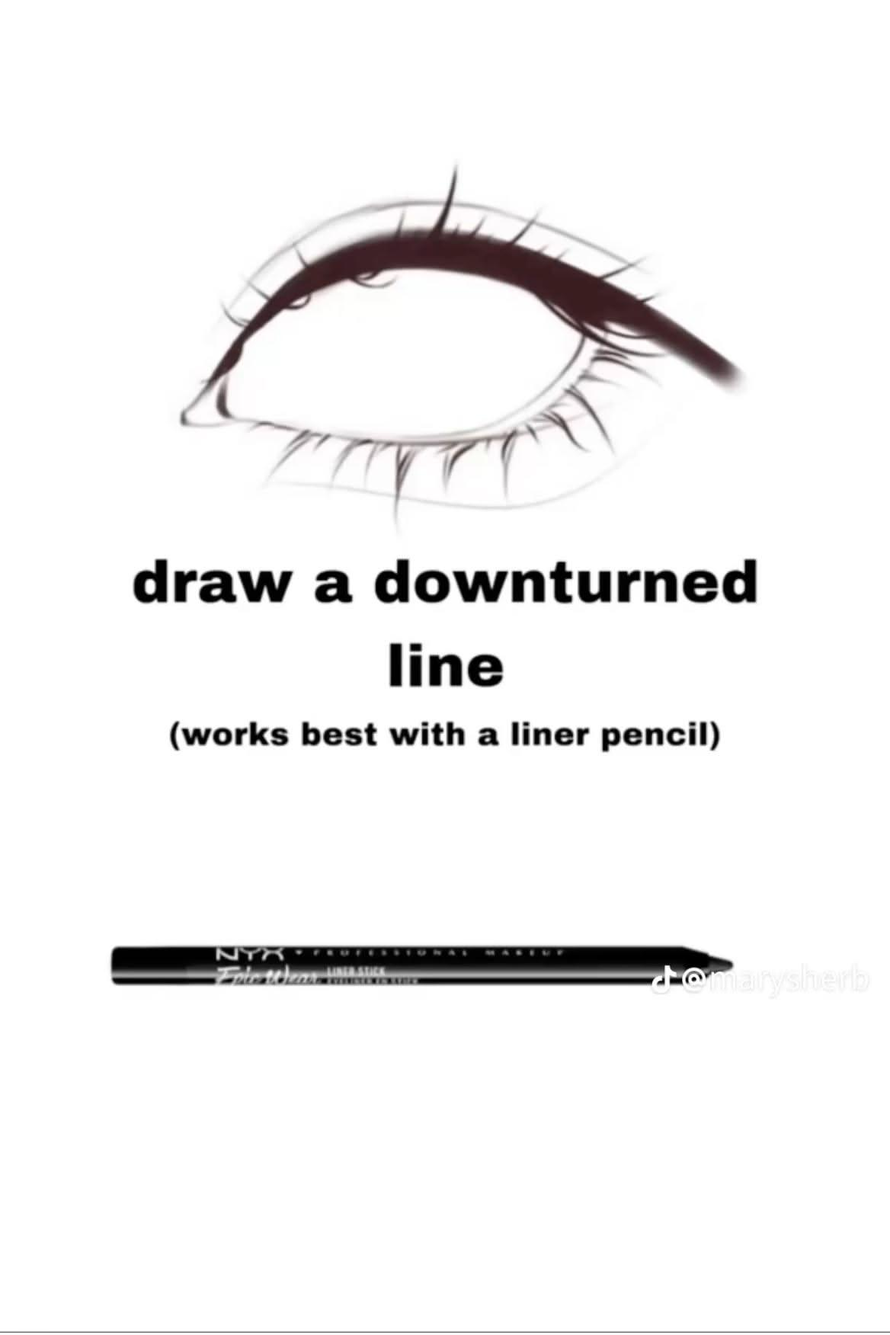non-dog: (109, 160, 748, 993)
